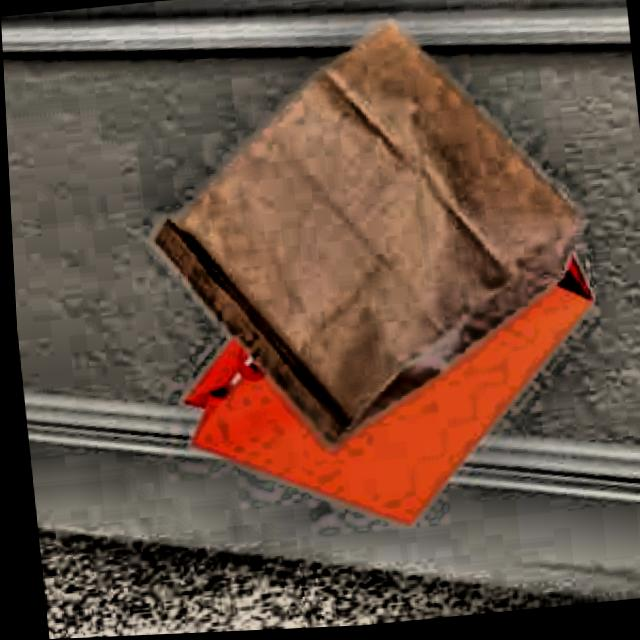Paper-bag: (146, 6, 601, 473), (166, 131, 619, 545)
